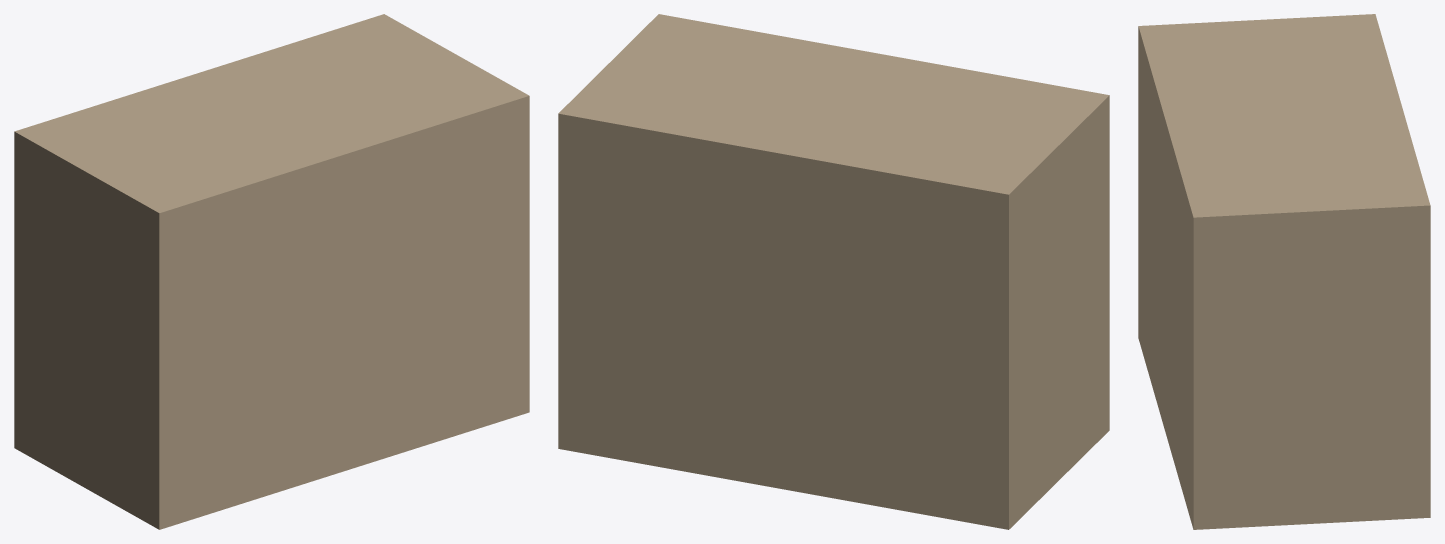
Rendered from bld_101562484.dae.
3 views of the same model, side by side, from view 1: azimuth 30°, elevation 25°; view 2: azimuth 150°, elevation 25°; view 3: azimuth 270°, elevation 25° (orthographic). The views are drawn at different scales.
Visible parts, largest first — view 1: bld_101562484; view 2: bld_101562484; view 3: bld_101562484.
Boxes of the visible parts, bbox=[...] form: bld_101562484: bbox=[14, 14, 529, 529]; bld_101562484: bbox=[558, 14, 1109, 529]; bld_101562484: bbox=[1138, 14, 1430, 529].
Bounding box in the file's own units: 11.19 × 6.78 × 8.
